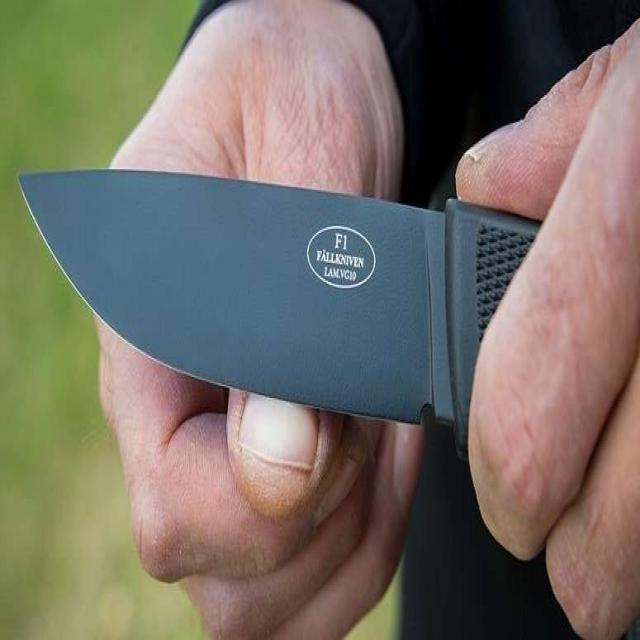knife: (16, 166, 584, 435)
